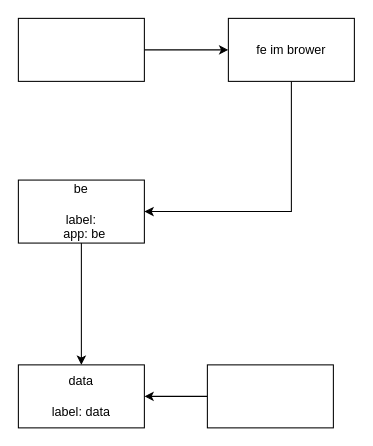
Some shapes in this 373 by 446 pixel diagram are drawn without their labels. The box of each missing label's shape, as (x1, y1, x2, y2) in pixels:
NetworkPolicy labelSelector: app: be: (206, 364, 333, 428)
nginx: fe label: app: fe: (17, 17, 144, 81)
